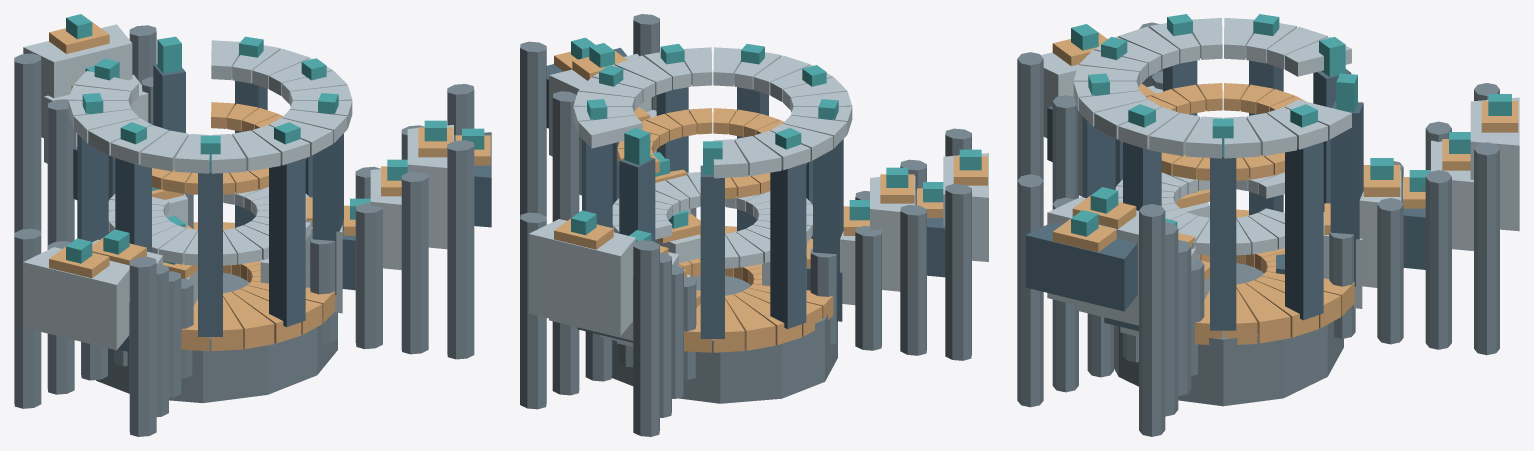
File: a19_b_trifurcated_commons.obj
The picture shows the model from 3 angles, left to right: view 1: azimuth 30°, elevation 25°; view 2: azimuth 150°, elevation 25°; view 3: azimuth 270°, elevation 25°; orthographic projection. The views are drawn at different scales.
Bounding box in the file's own units: 217 × 117 × 191.
